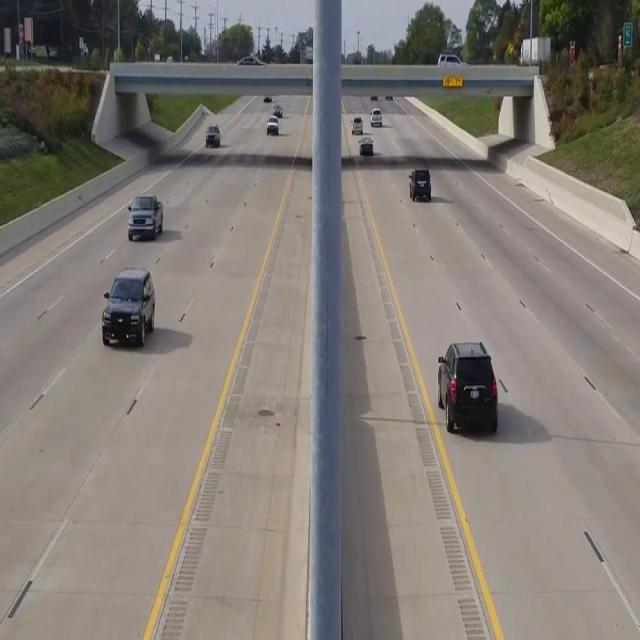car: (436, 341, 498, 434), (101, 267, 155, 348), (127, 194, 163, 240), (408, 168, 430, 200), (205, 123, 220, 148)
